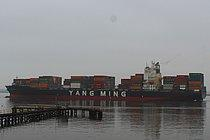Ship: (5, 59, 210, 110)
